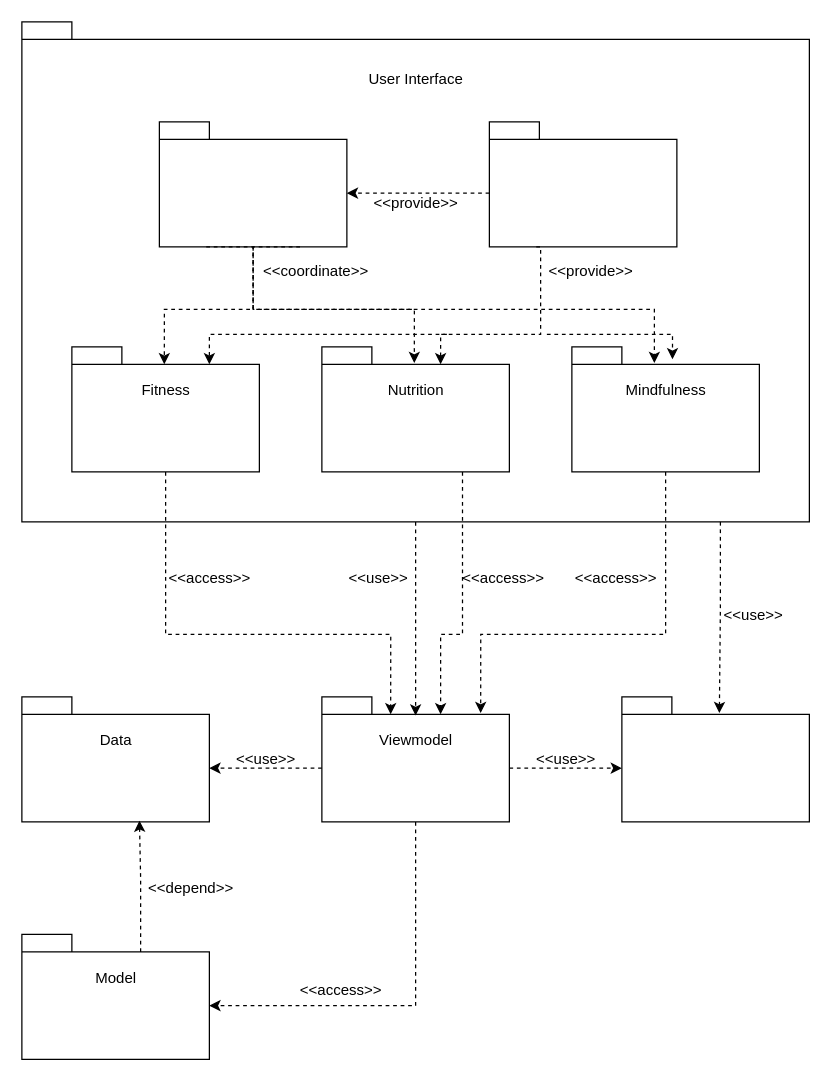
The diagram is 831 pixels wide and 1081 high, and some of its shapes have lost their labels. Here are the shapes that lost their labels. From the top down, the centre of each, then its label:
At (252,184): "Main".
At (582,184): "Theme".
At (715,759): "Util".
